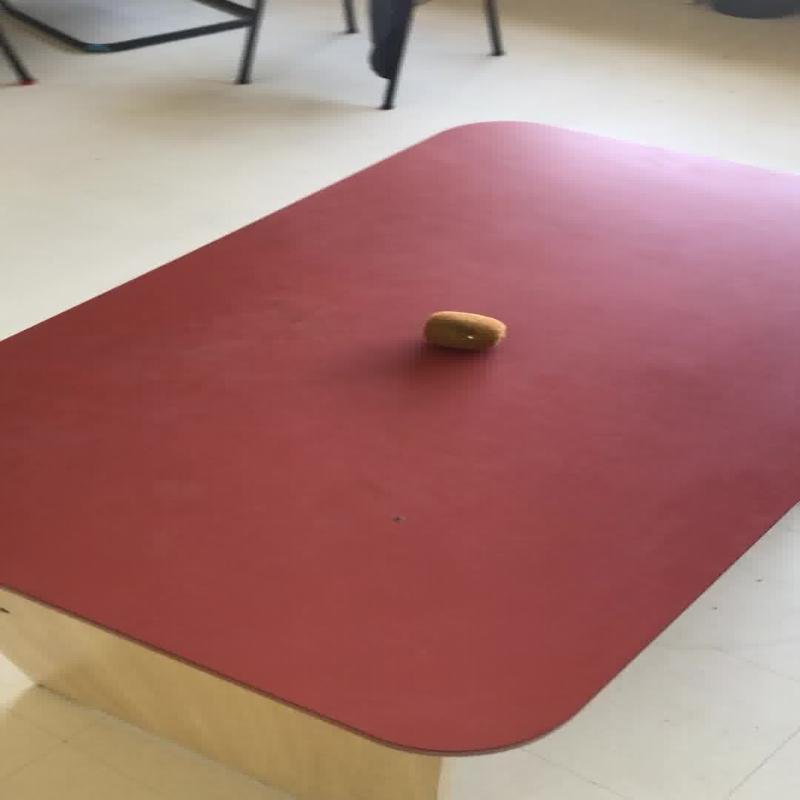kiwi: (421, 310, 506, 350)
